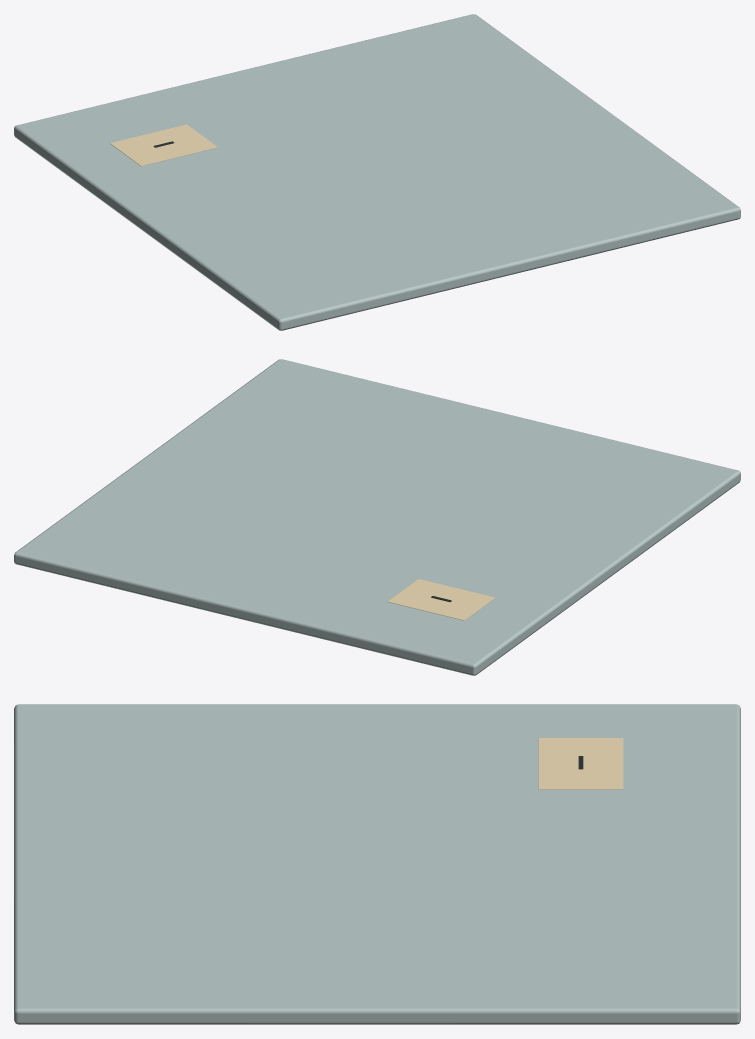
The model's file is dishwasher-door-light.glb.
The picture shows the model from 3 angles, top to bottom: view 1: azimuth 30°, elevation 25°; view 2: azimuth 150°, elevation 25°; view 3: azimuth 270°, elevation 25°; orthographic projection. The views are drawn at different scales.
Visible parts, largest first — view 1: steel, cream; view 2: steel, cream; view 3: steel, cream.
Boxes of the visible parts, left/top/right/bottom form: steel: left=14, top=14, right=740, bottom=330; cream: left=110, top=124, right=217, bottom=166; steel: left=14, top=359, right=740, bottom=675; cream: left=387, top=579, right=495, bottom=620; steel: left=14, top=704, right=740, bottom=1024; cream: left=538, top=738, right=623, bottom=789.
Bounding box in the file's own units: 12 × 0.335 × 12.
